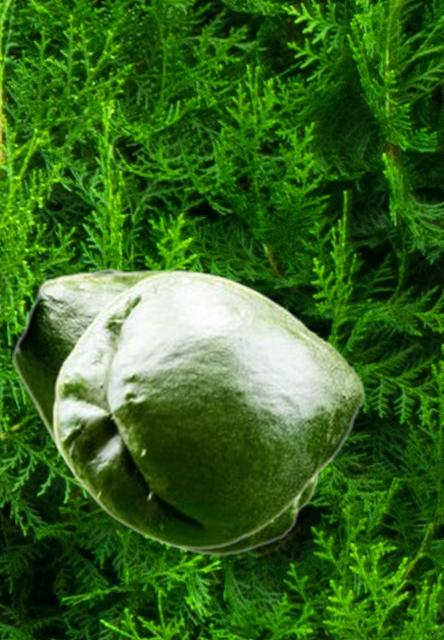sayote: (12, 268, 334, 555), (51, 270, 364, 549)
